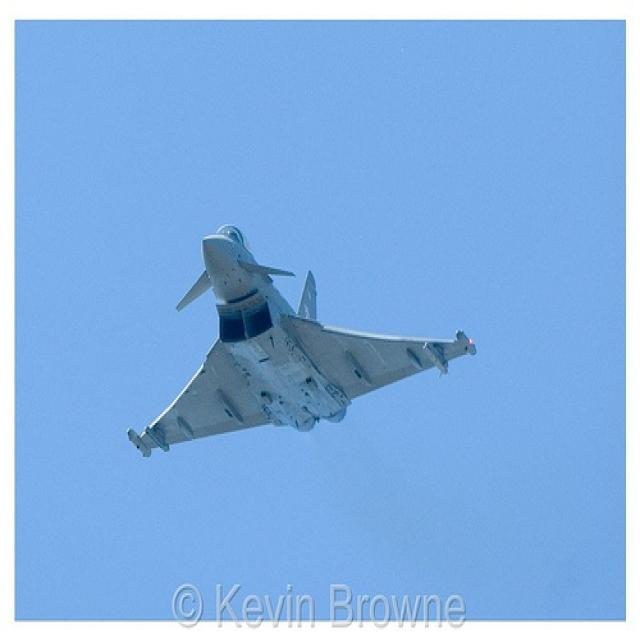aeroplane: (125, 220, 479, 459)
